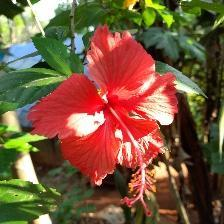hibiscus: (24, 22, 205, 219)
